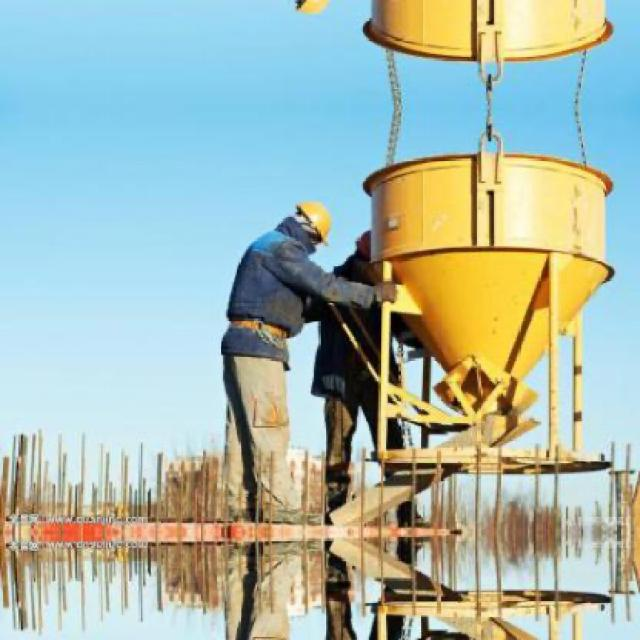helmet: (281, 197, 337, 249), (349, 231, 382, 272), (282, 0, 338, 17)
